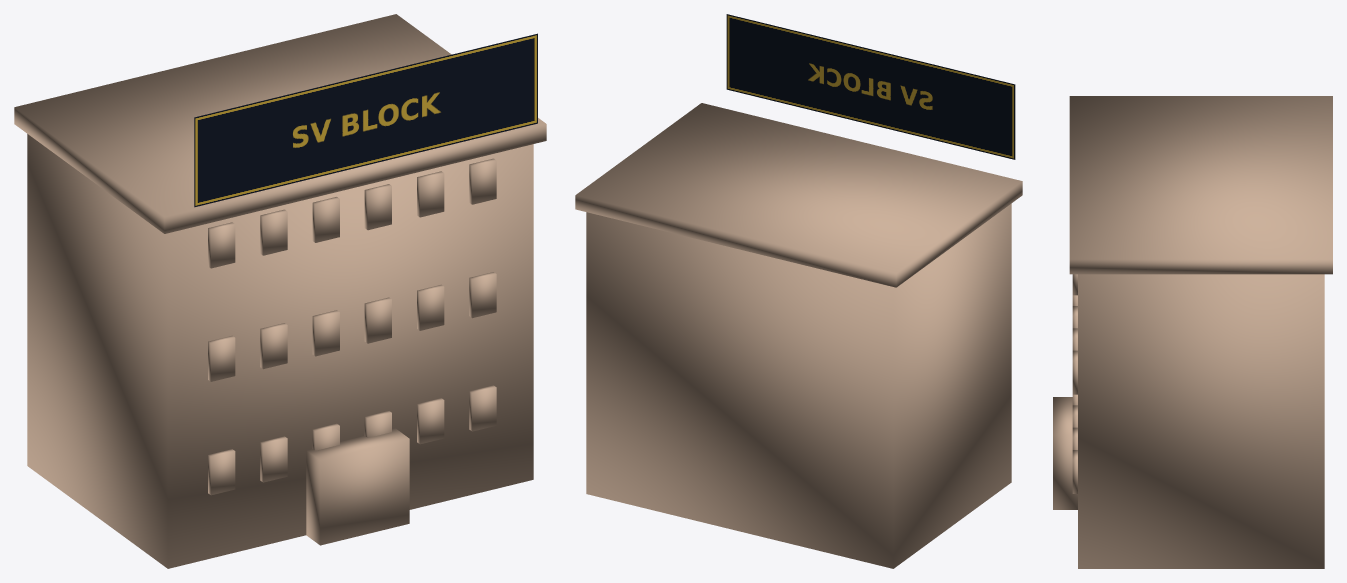
File: sv-block.glb
The picture shows the model from 3 angles, left to right: view 1: azimuth 30°, elevation 25°; view 2: azimuth 150°, elevation 25°; view 3: azimuth 270°, elevation 25°; orthographic projection. The views are drawn at different scales.
Parts seen in each view (by area): view 1: Model, Sign; view 2: Model, Sign; view 3: Model.
Part boxes in pixels (x1,y1,x2,y2): Model: [14, 14, 546, 568]; Sign: [194, 33, 537, 207]; Model: [575, 103, 1022, 568]; Sign: [726, 14, 1015, 159]; Model: [1053, 96, 1332, 568].
Size of the model in its own units: 9.4 by 10.81 by 6.85.
Materials: 1 (1 with a texture image).
